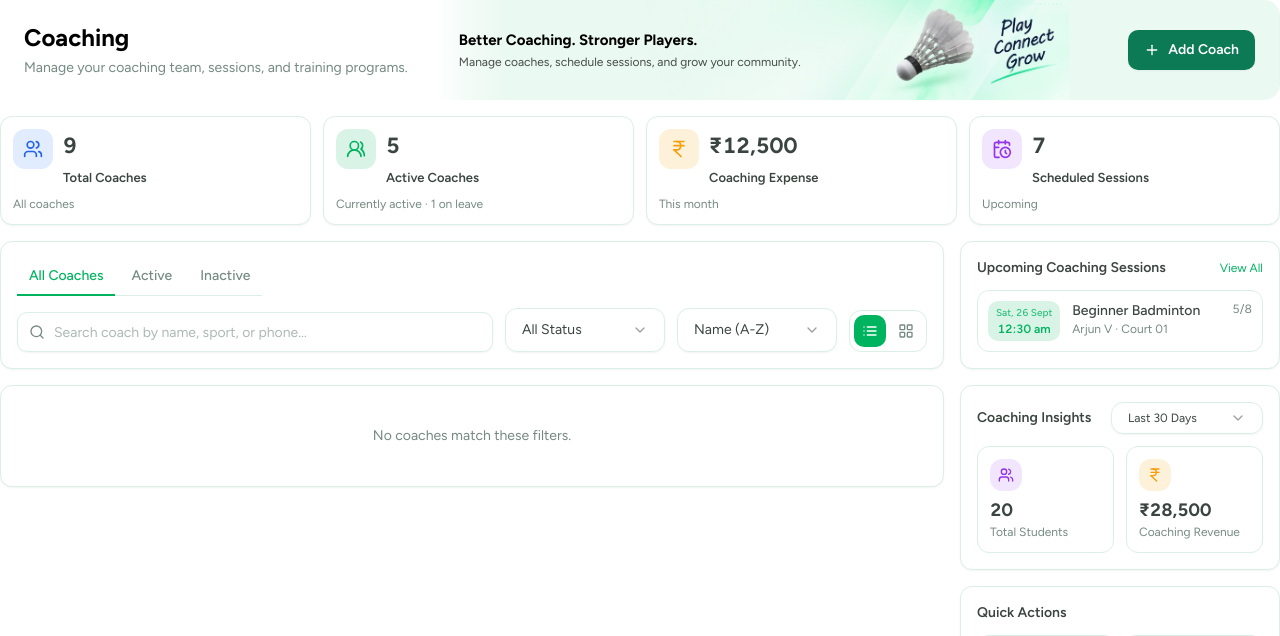
Scenario: CoachingOverviewPage › the hero's Add Coach button opens the Add Coach slide-over instead of navigating
The width and height of the screenshot is (1280, 636).
expect the text "5" is shown: met, box [386,132,400,159]
Step 1. Click the button "Add Coach" → coordinates (1192, 50), box [1128,30,1255,70]
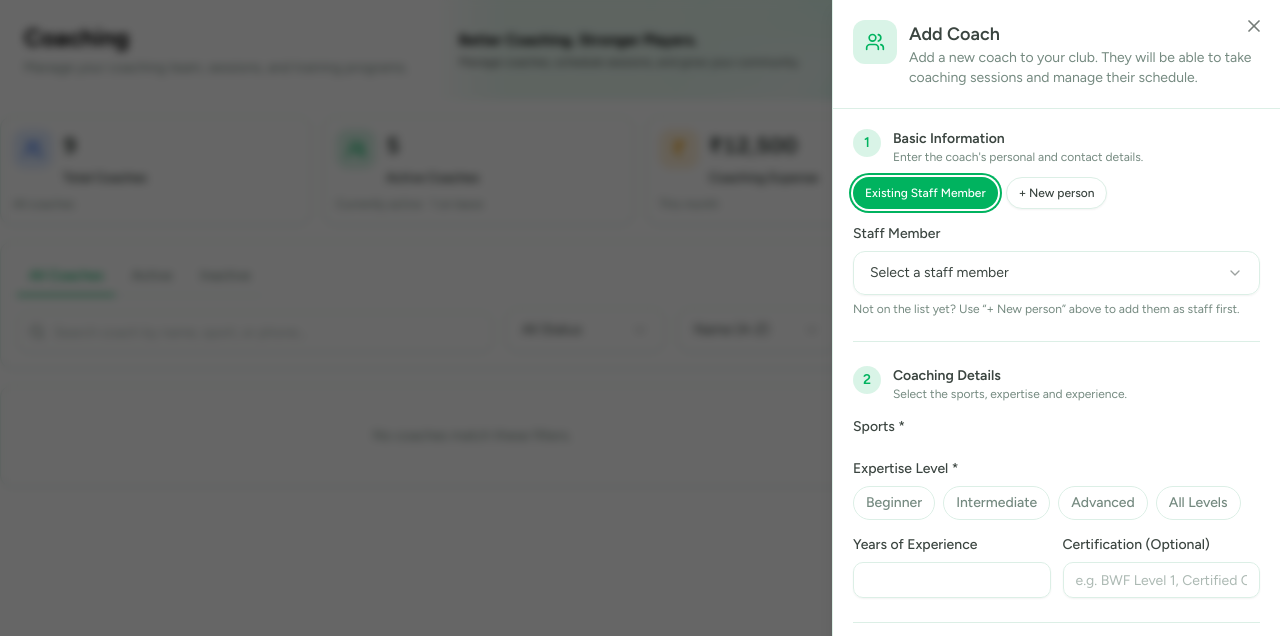
expect the heading "Add Coach" is shown: met, box [909,23,1000,45]
